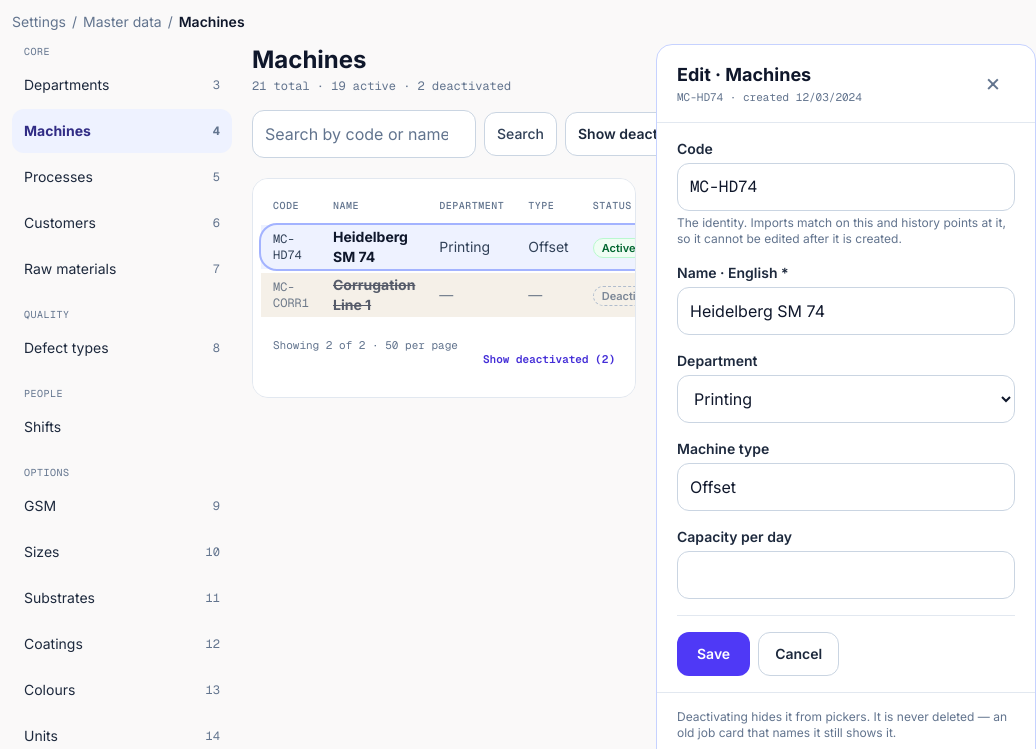
a failed save › shows the reason and KEEPS what the person typed — the form is not blanked
Replace the text in the field labelled "Name · English *" with "Typed name": point(846, 310) [677,286,1015,334]
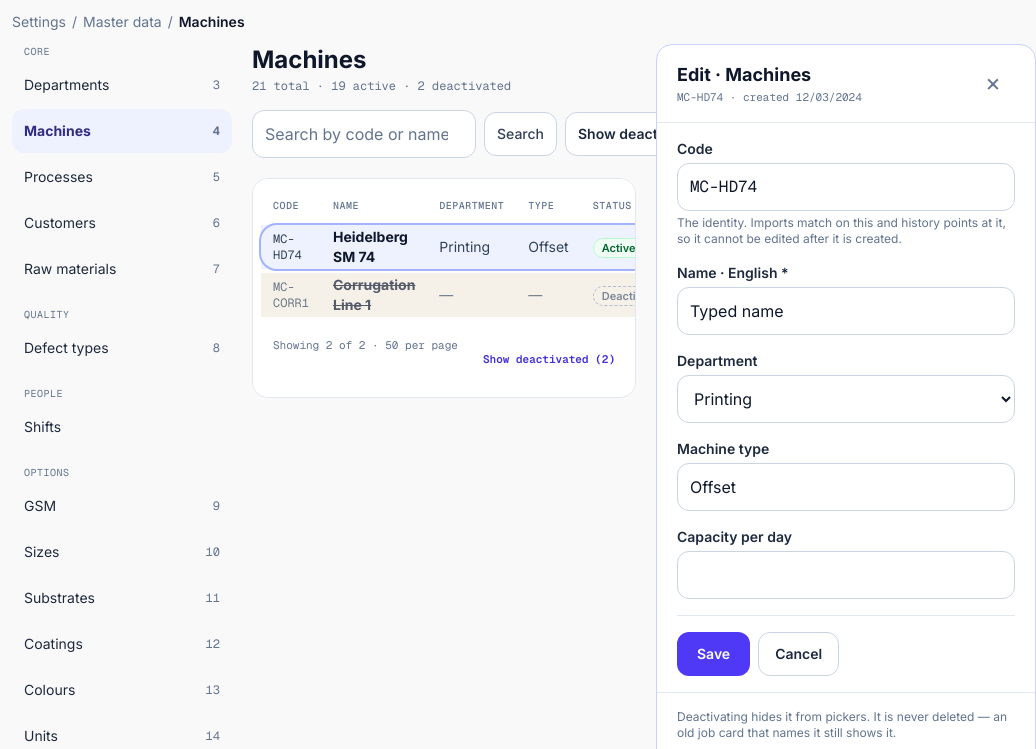
Submit the form that starts with "Code", box [657,122,1035,692]
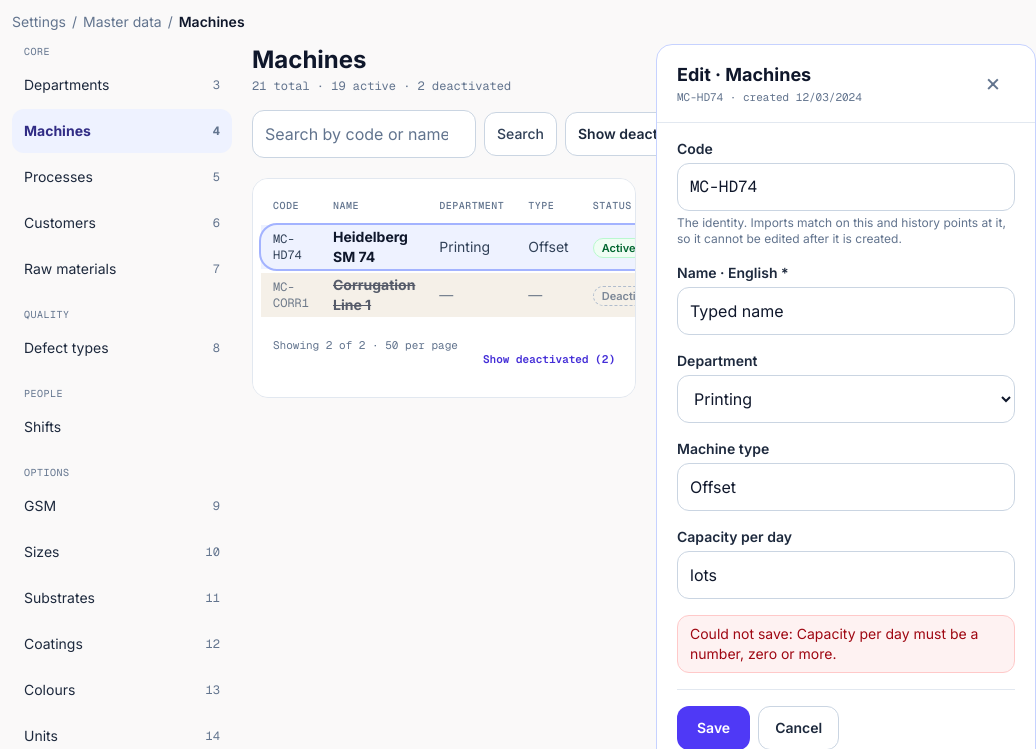
Check: the message shows "Capacity per day must be a number", box [690,624,978,662]
Check: the field labelled "Capacity per day" holds "lots", box [677,550,1015,598]
